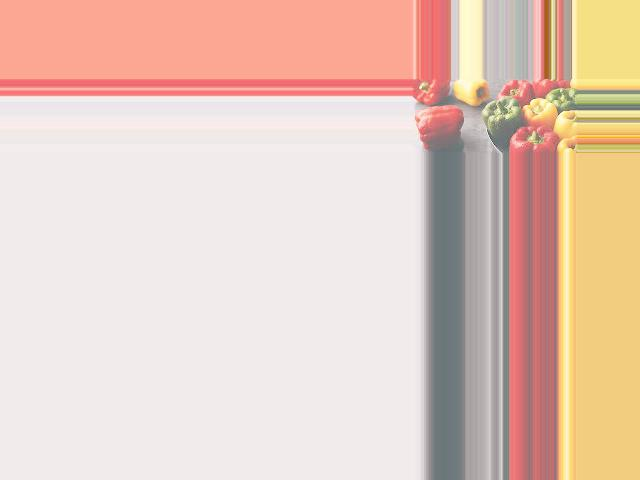bell_pepper: (411, 81, 450, 104)
